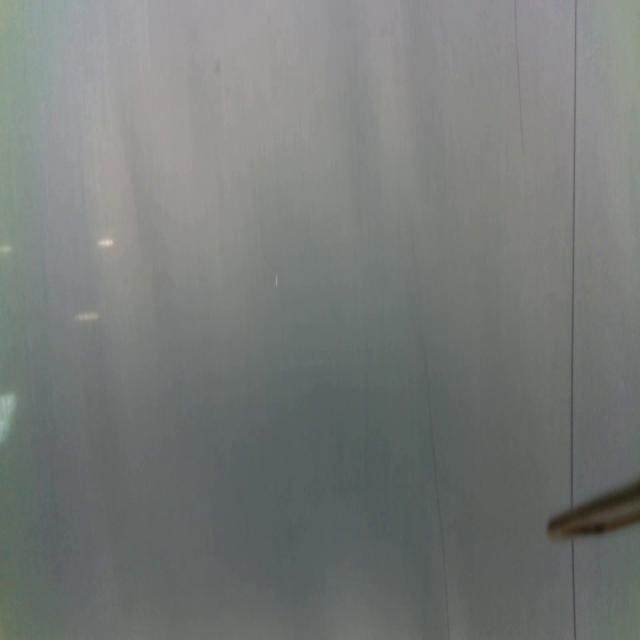crease: (567, 0, 578, 511), (511, 0, 528, 169), (570, 540, 578, 640)
hole: (273, 271, 281, 290)
